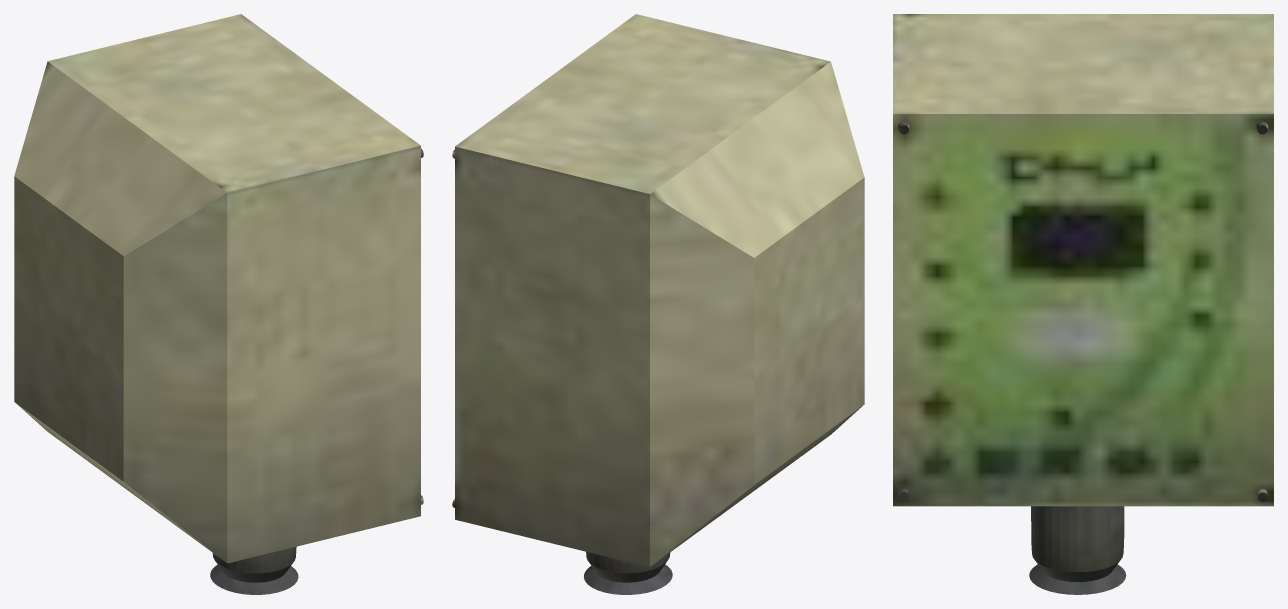
File: temptron.fbx
3 renders of one model, left to right at view 1: azimuth 30°, elevation 25°; view 2: azimuth 150°, elevation 25°; view 3: azimuth 270°, elevation 25°, orthographic. The views are drawn at different scales.
Parts seen in each view (by area): view 1: temtron; view 2: temtron; view 3: temtron.
Boxes of the visible parts, x1,y1,x2,y2 form: temtron: (14,14,423,594); temtron: (452,14,864,594); temtron: (893,14,1273,594).
Bounding box in the file's own units: 254 × 431 × 296.
